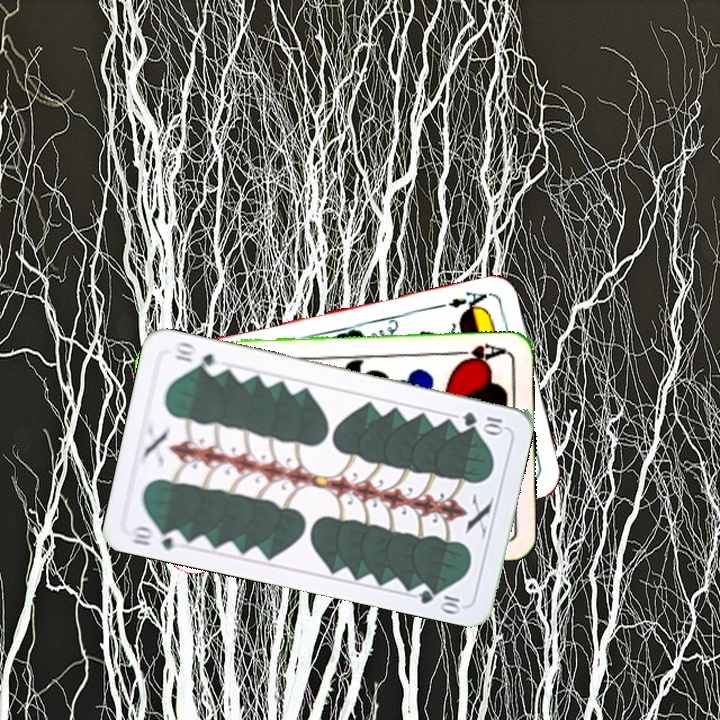EA: (435, 287, 494, 316)
G10: (126, 522, 187, 553), (459, 408, 506, 435)
HA: (449, 339, 508, 366)
